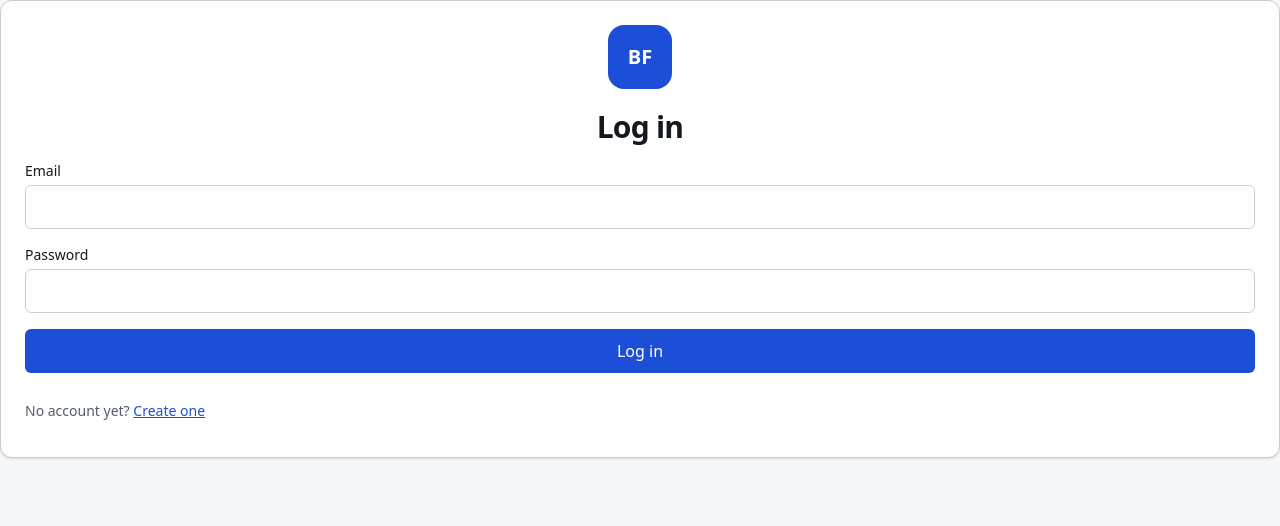
LoginRoute › shows the generic invalid-credential message from the API
The width and height of the screenshot is (1280, 526).
Type "user@example.test" into the field labelled "Email" at [640, 207], box [25,185,1255,229]
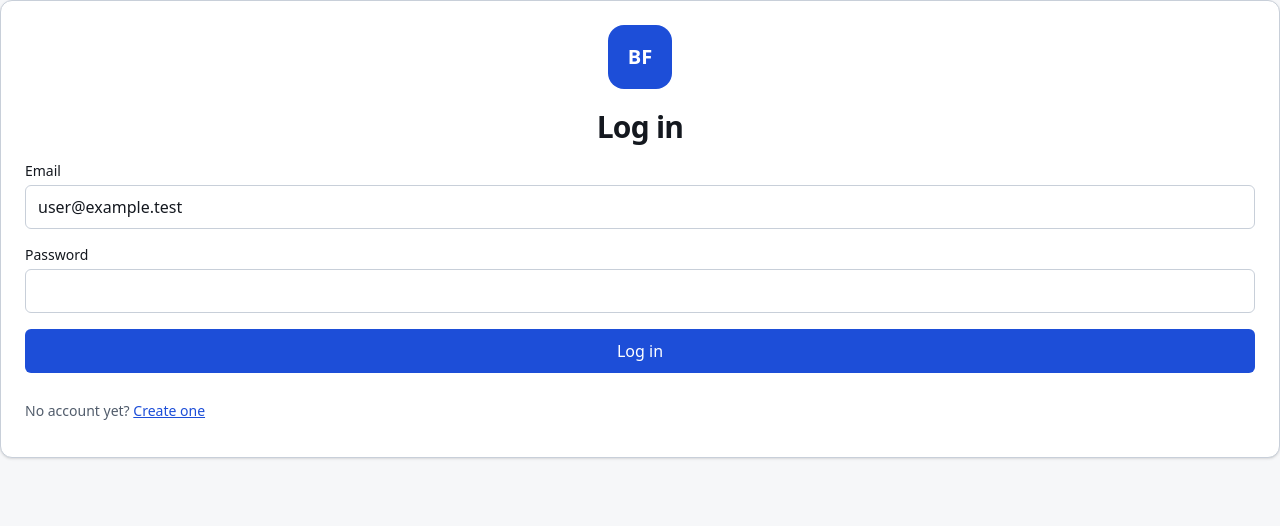
Type "wrong-password" into the password field labelled "Password" at [640, 291], box [25,269,1255,313]
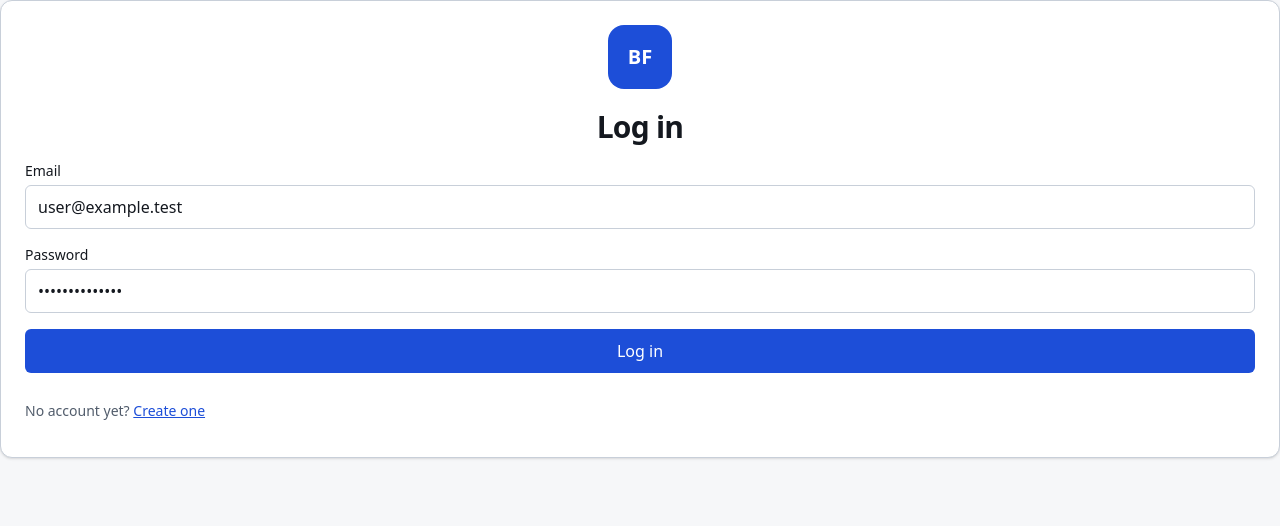
Submit the form, box [25,161,1255,373]
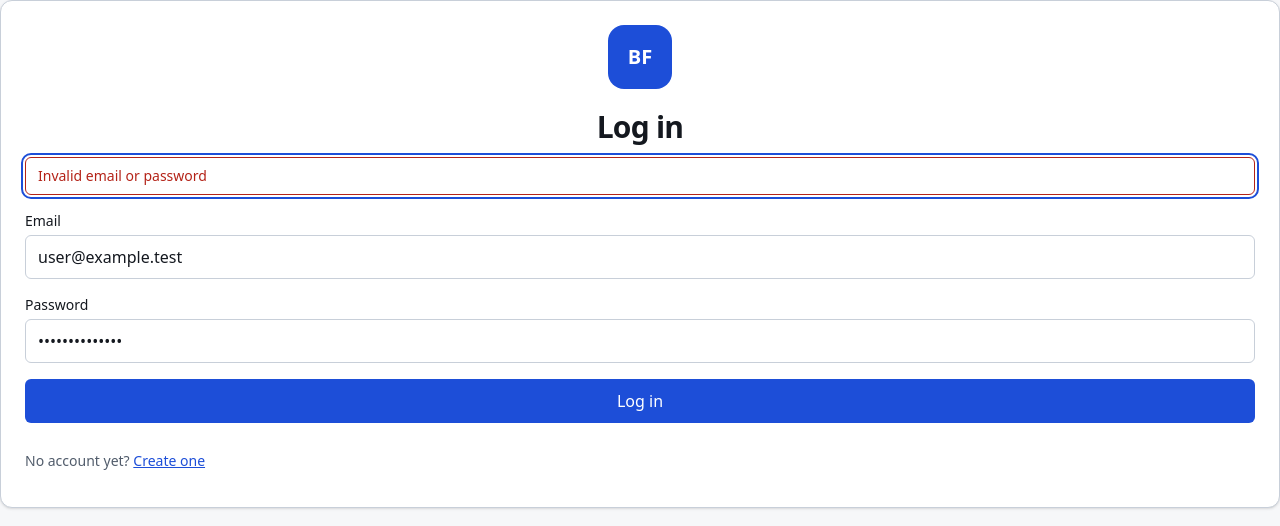
Now the message reads "Invalid email or password", box [38,166,207,185]
